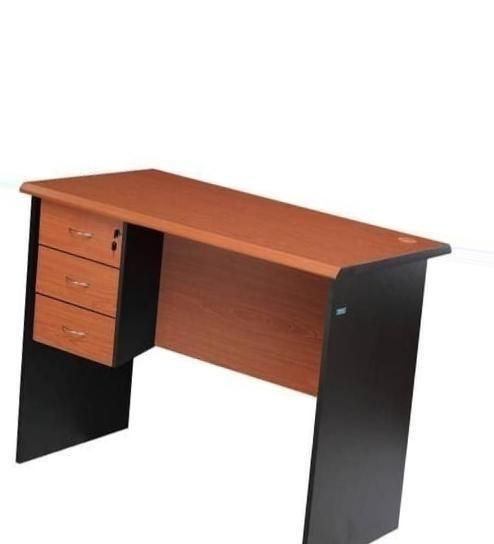cabinet_door: (35, 255, 118, 304), (35, 302, 116, 352), (38, 209, 122, 256)
handle: (64, 272, 92, 292), (66, 227, 97, 243), (62, 324, 89, 342)
